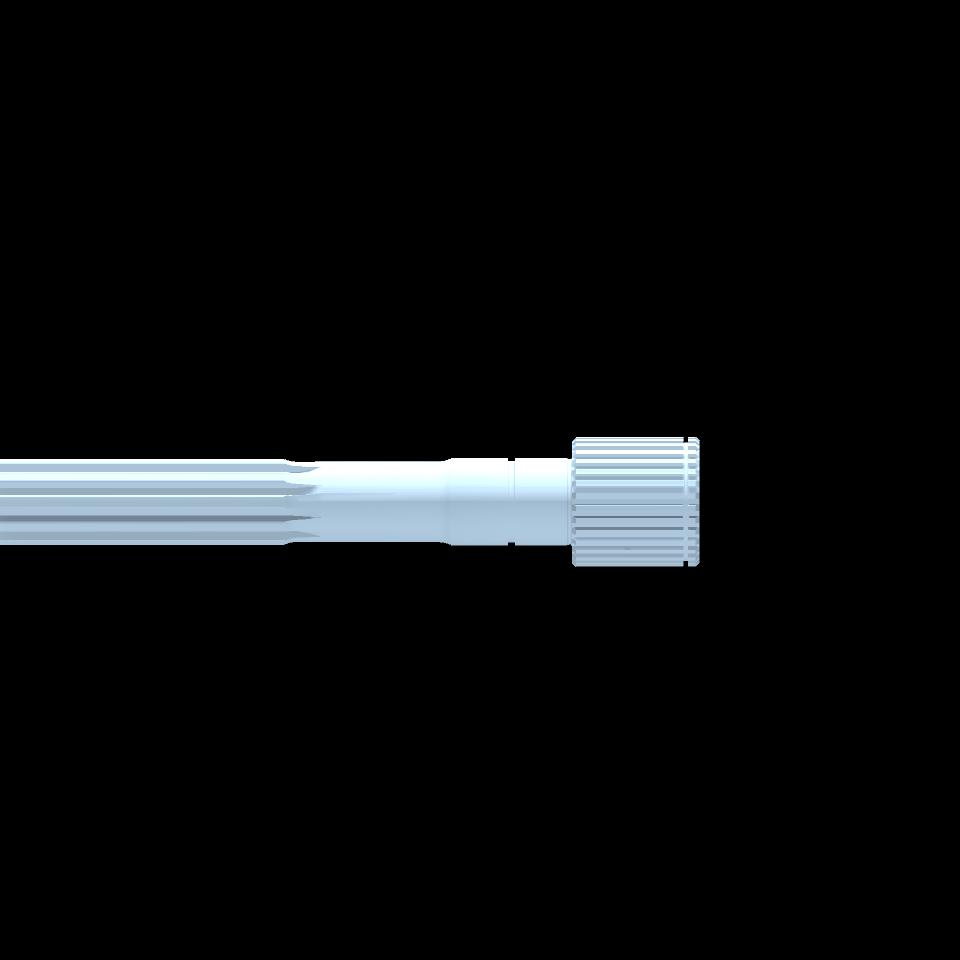Straight: (1, 460, 284, 546), (576, 435, 683, 567), (688, 437, 696, 566)
